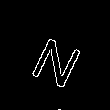N_NE: (24, 24, 86, 86)
